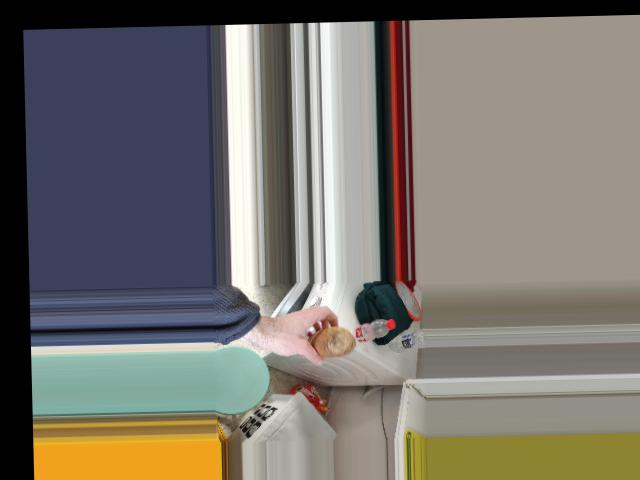sweet_potato: (302, 319, 354, 362)
